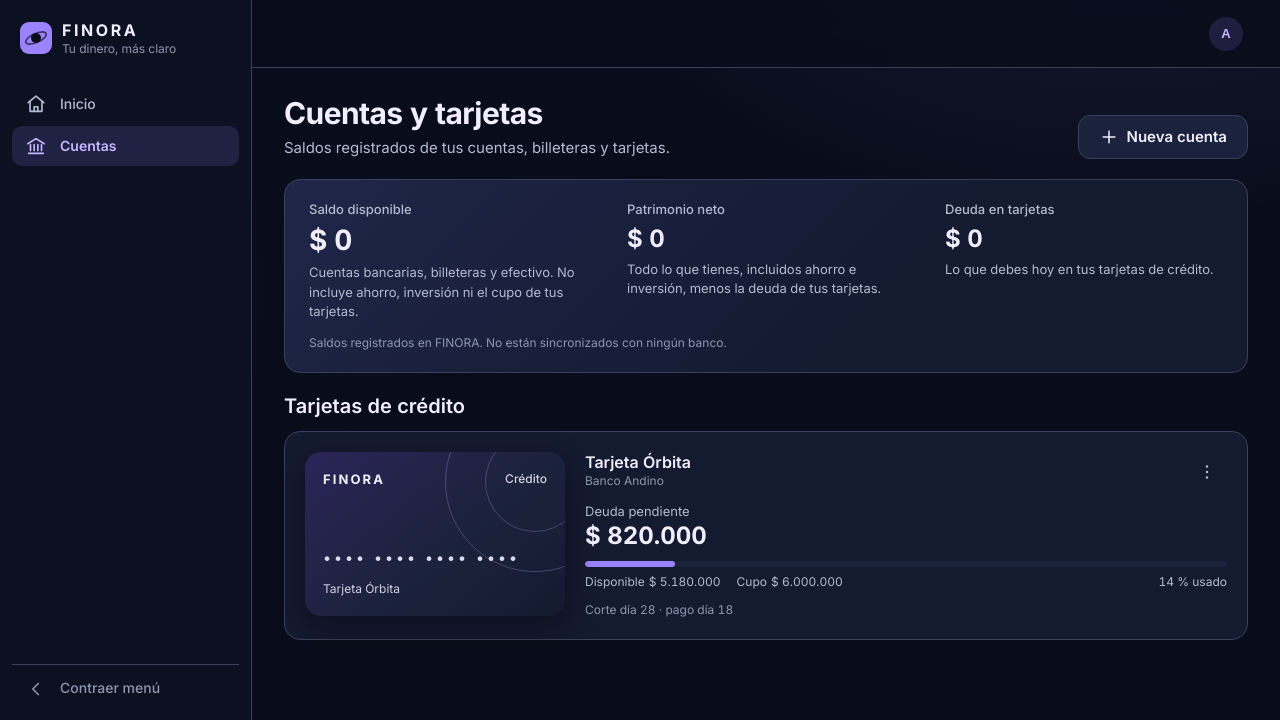
Test: editar cuenta (RF-ACC-05 y 06) › tarjeta: edita cupo y días
The image size is (1280, 720).
Click the button named "Acciones de Tarjeta Órbita" at (1207, 472), box [1187,452,1227,492]
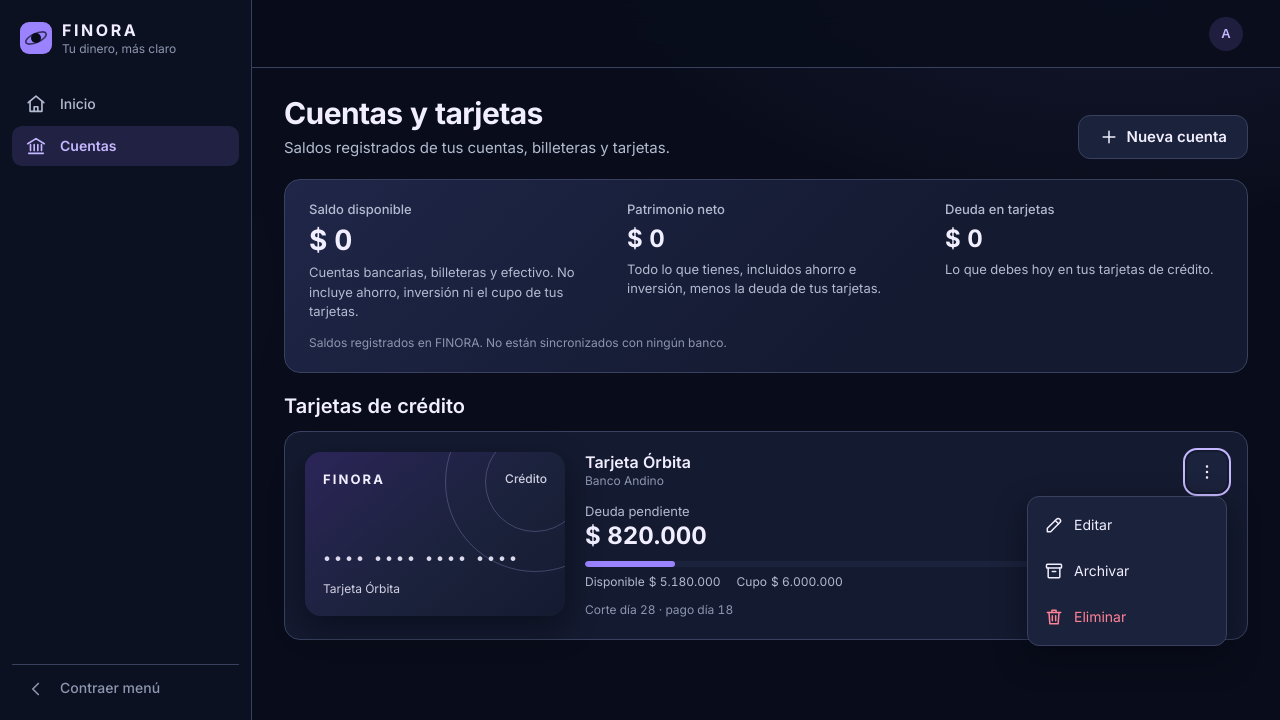
Click the button "Editar" at (1127, 525), box [1034,503,1220,547]
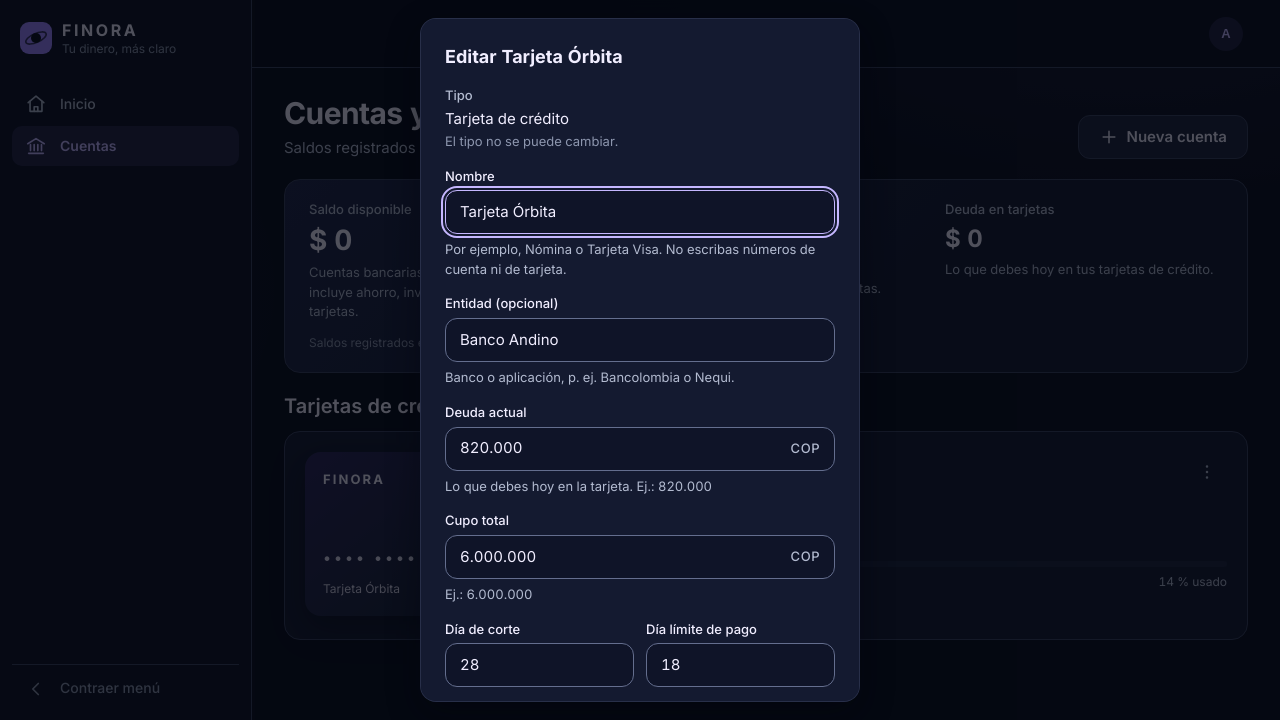
Expected: the field labelled "Cupo total" holds "6.000.000", [446,536,781,578]
Expected: the field labelled "Día de corte" holds "28", [446,644,633,686]
Replace the text in the field labelled "Día límite de pago" with "5" at (740, 666), box [647,644,834,686]
(page scrolled)
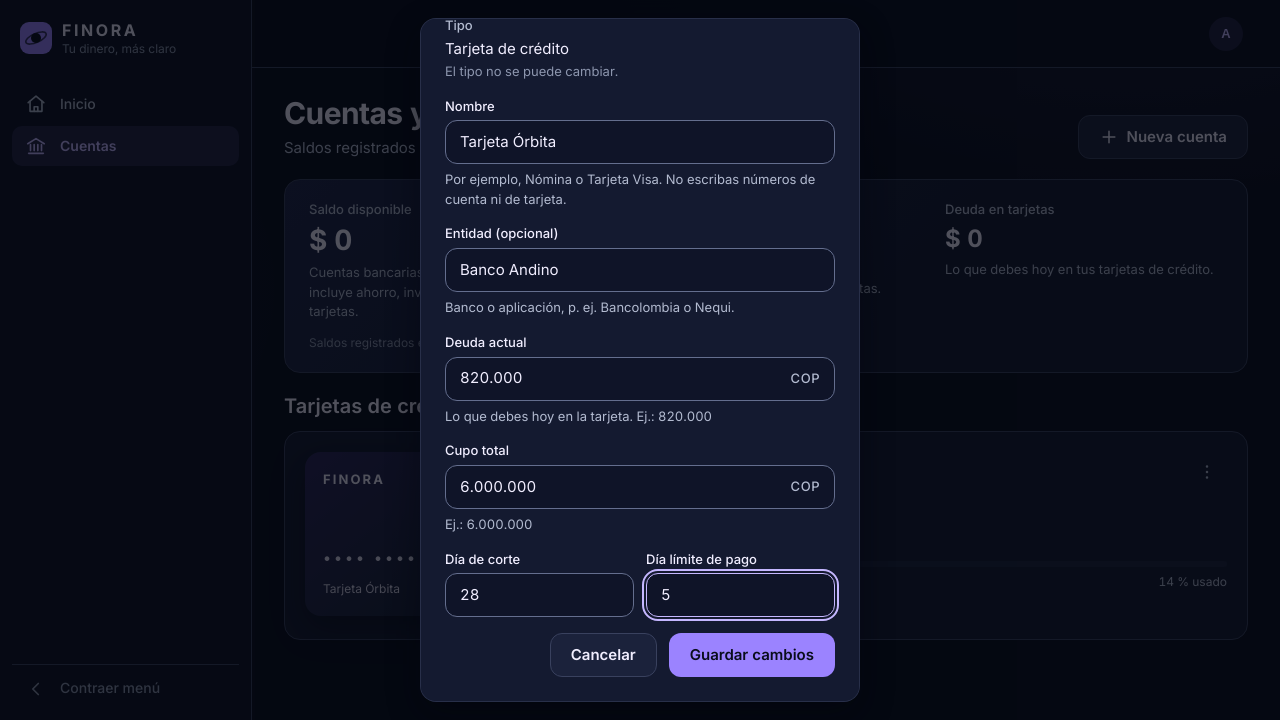
Click the button "Guardar cambios" at (752, 656), box [669,634,835,678]
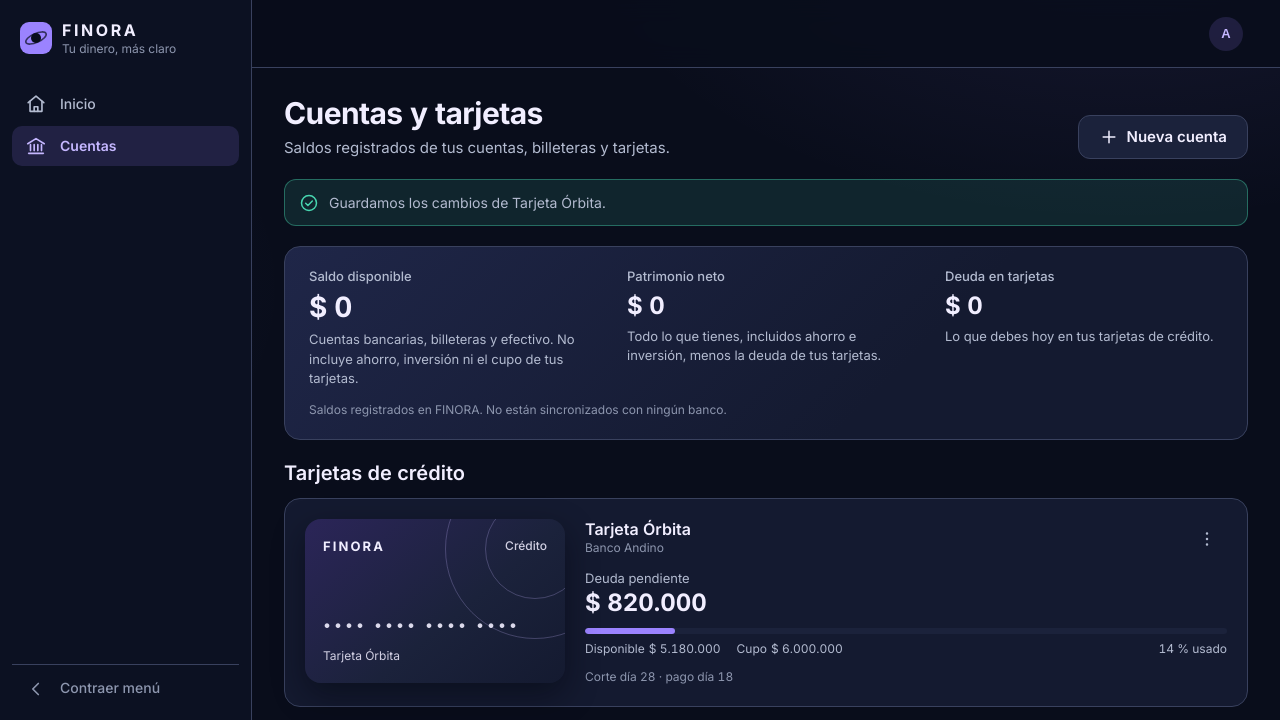
Expected: the text "Guardamos los cambios de Tarjeta Órbita." is shown, [329,192,606,213]
